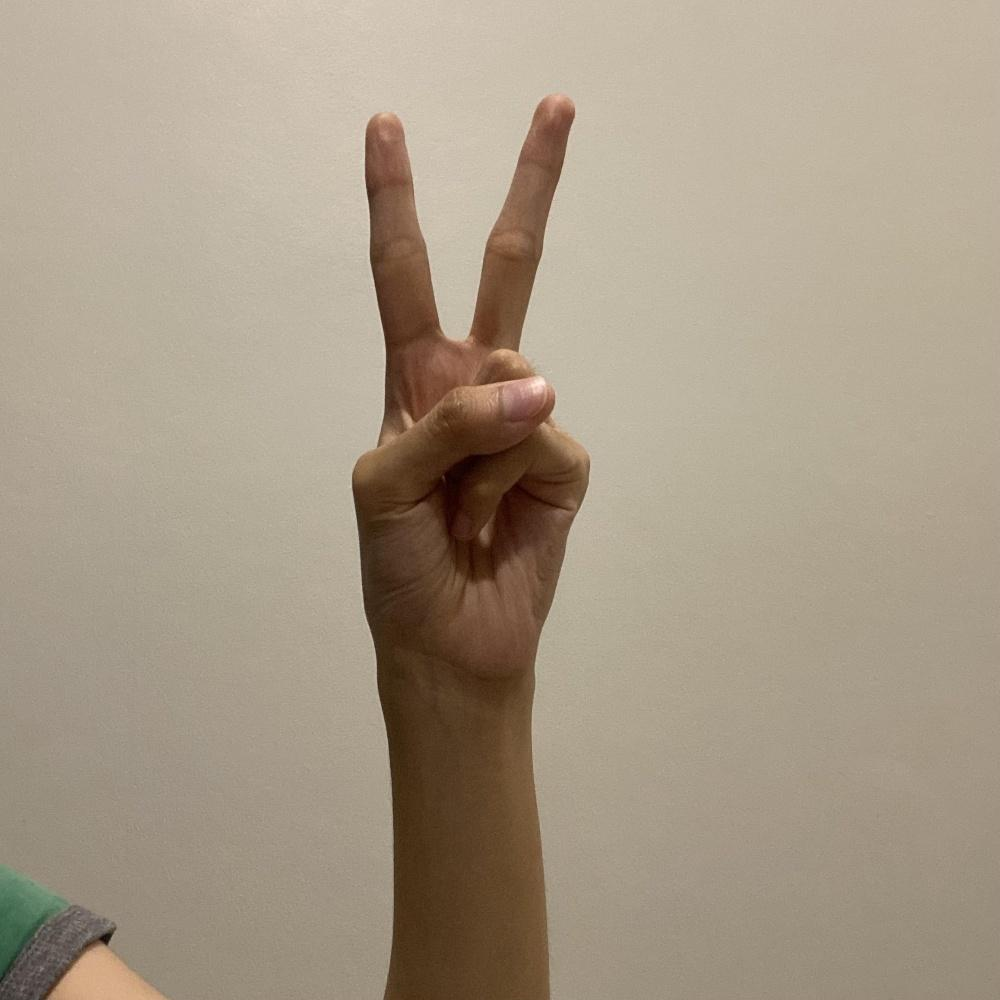v: (349, 87, 595, 700)
